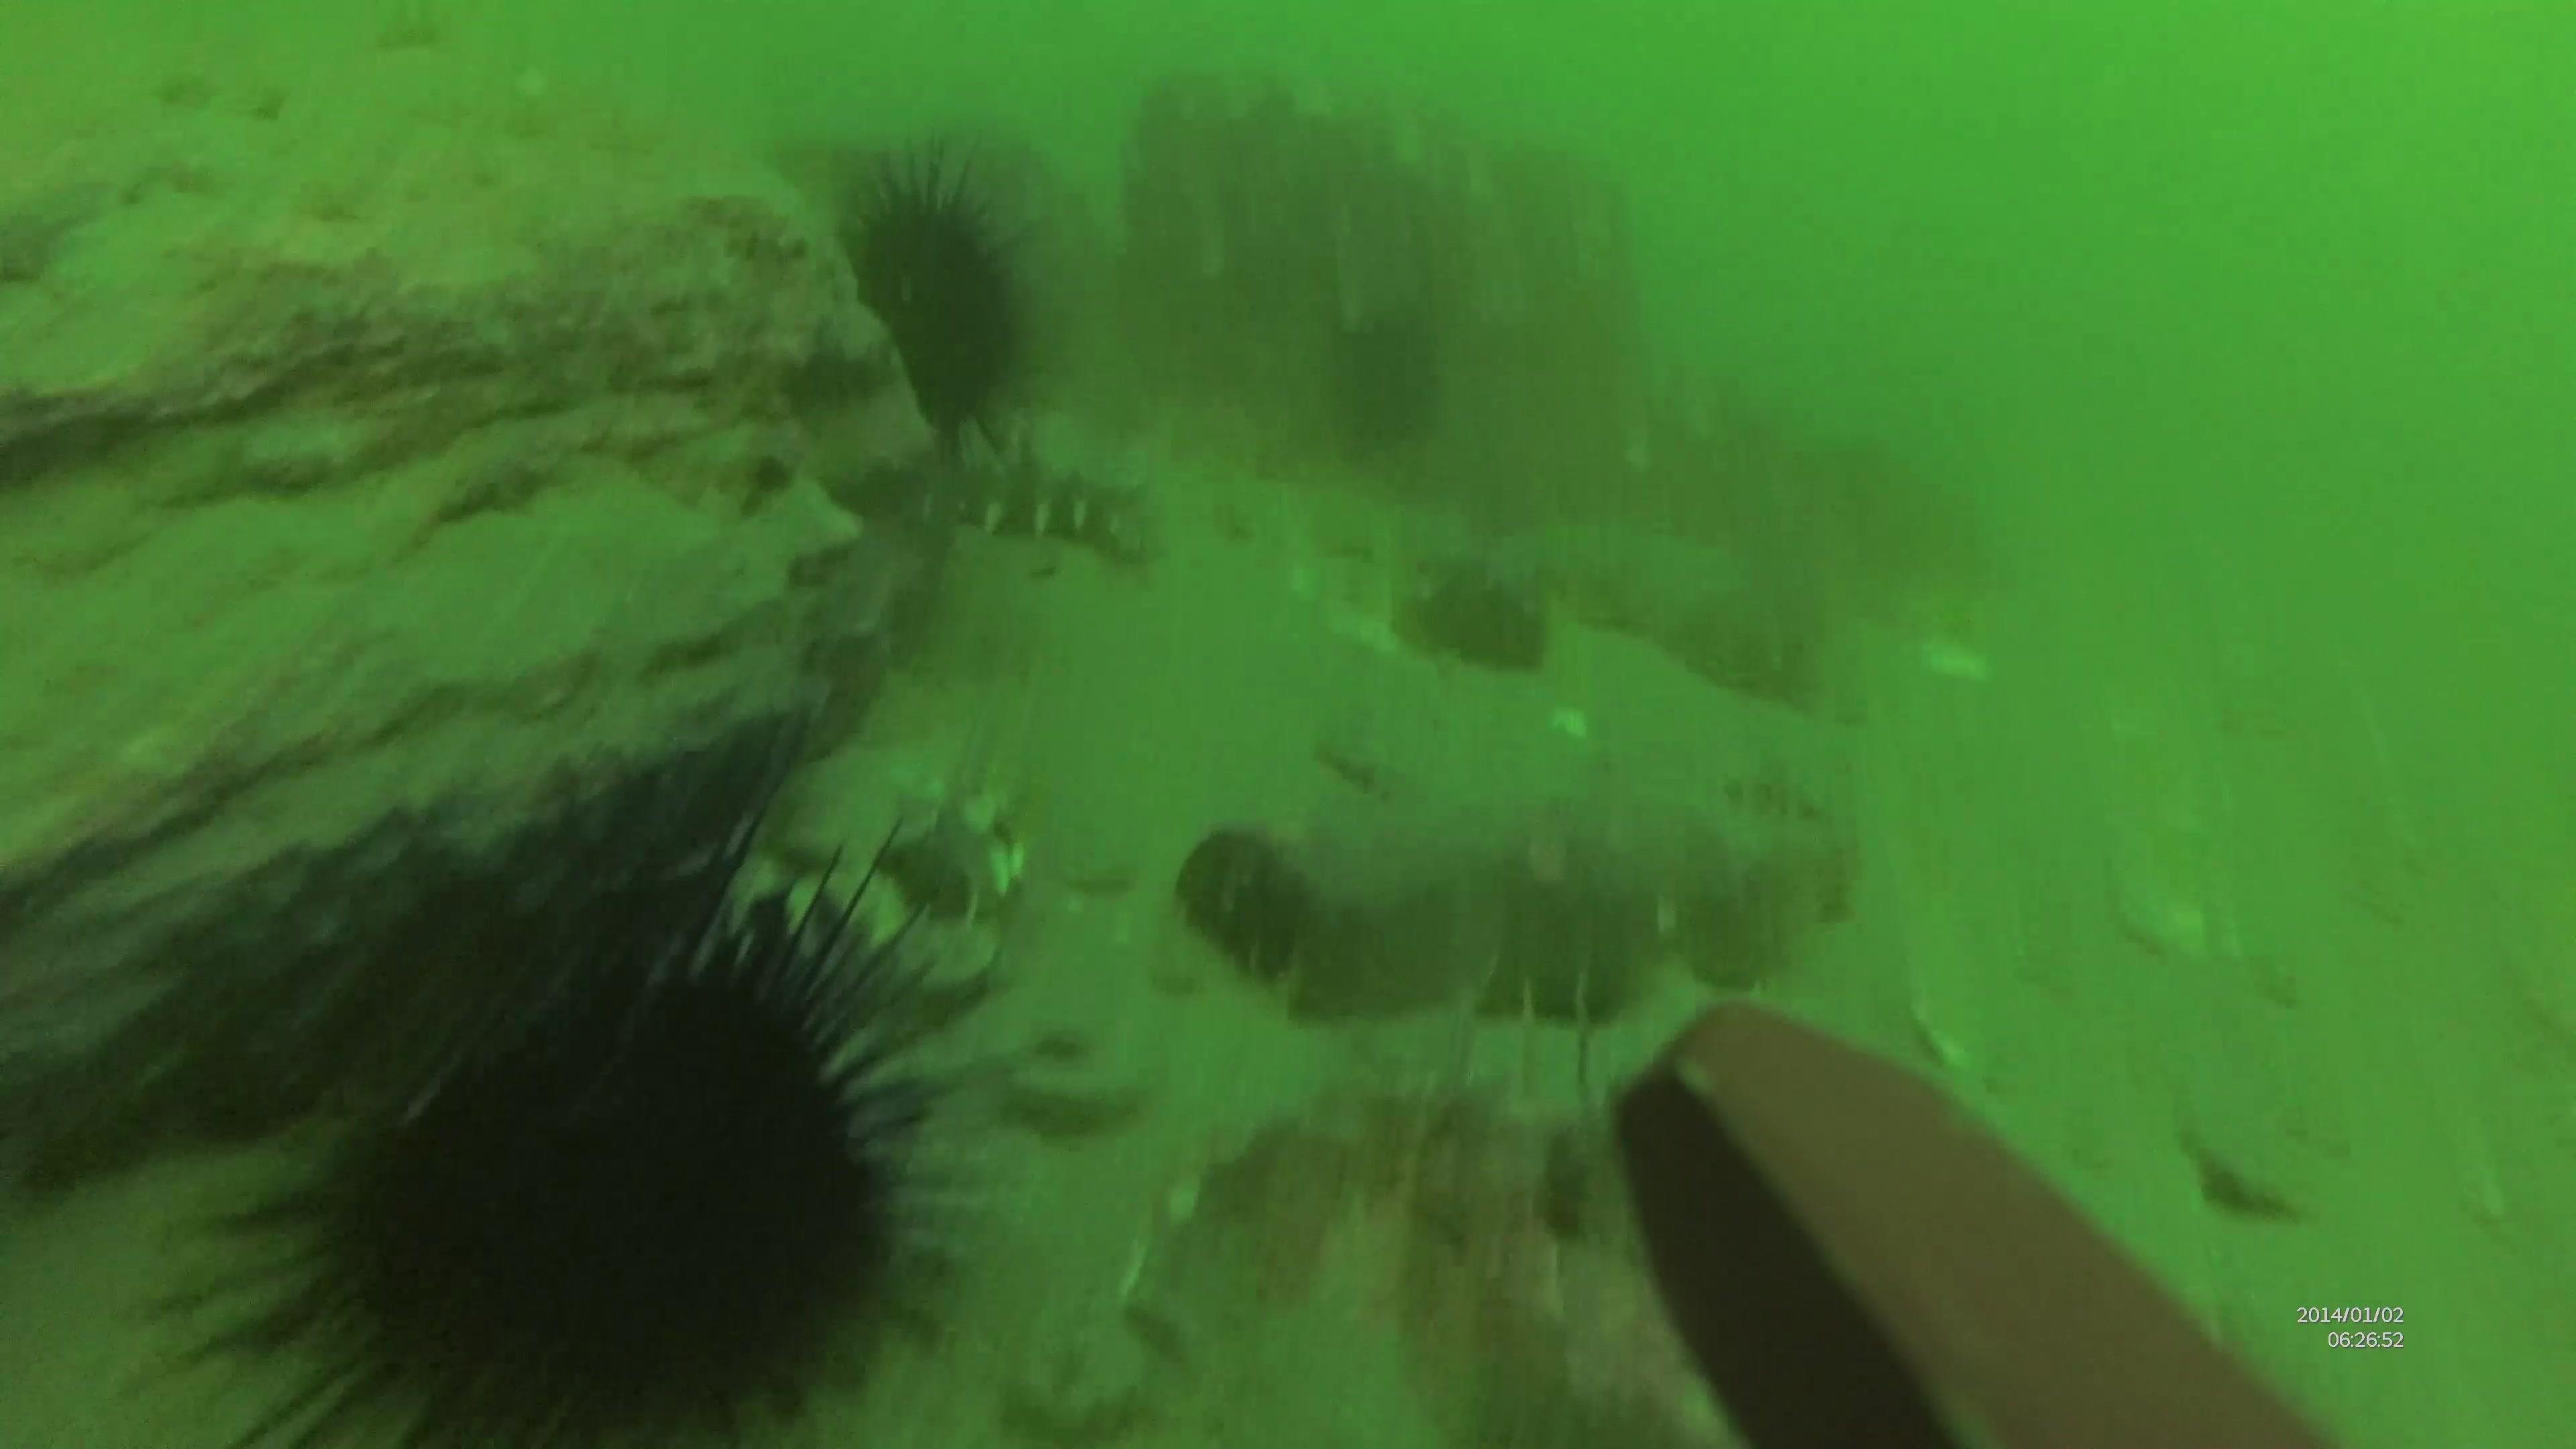echinus: (150, 752, 978, 1449), (823, 140, 1065, 462)
holothurian: (860, 441, 1150, 552)
scallop: (893, 809, 1030, 924), (777, 863, 878, 961), (886, 934, 994, 1001)
